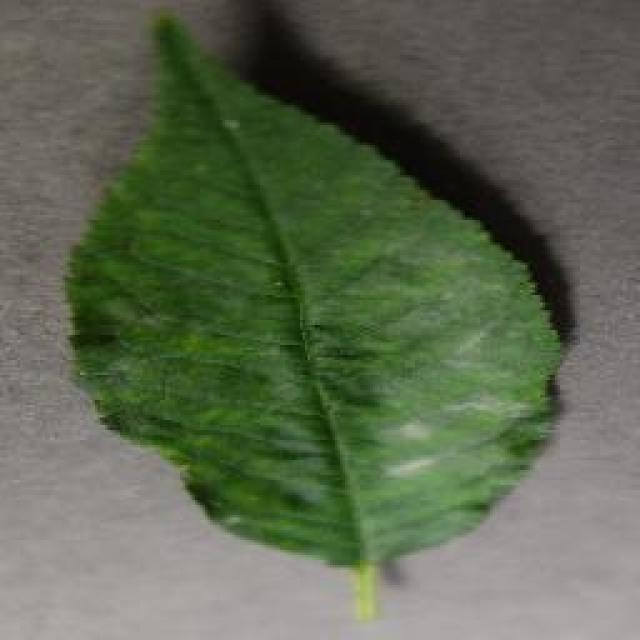Cher_including_sour_Pow_mildew: (336, 295, 534, 487)
